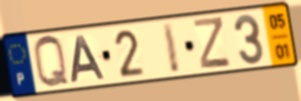2: (112, 28, 147, 80)
3: (233, 12, 265, 67)
A: (69, 34, 108, 85)
I: (160, 20, 183, 76)
Q: (31, 34, 72, 91)
Z: (192, 14, 233, 70)
